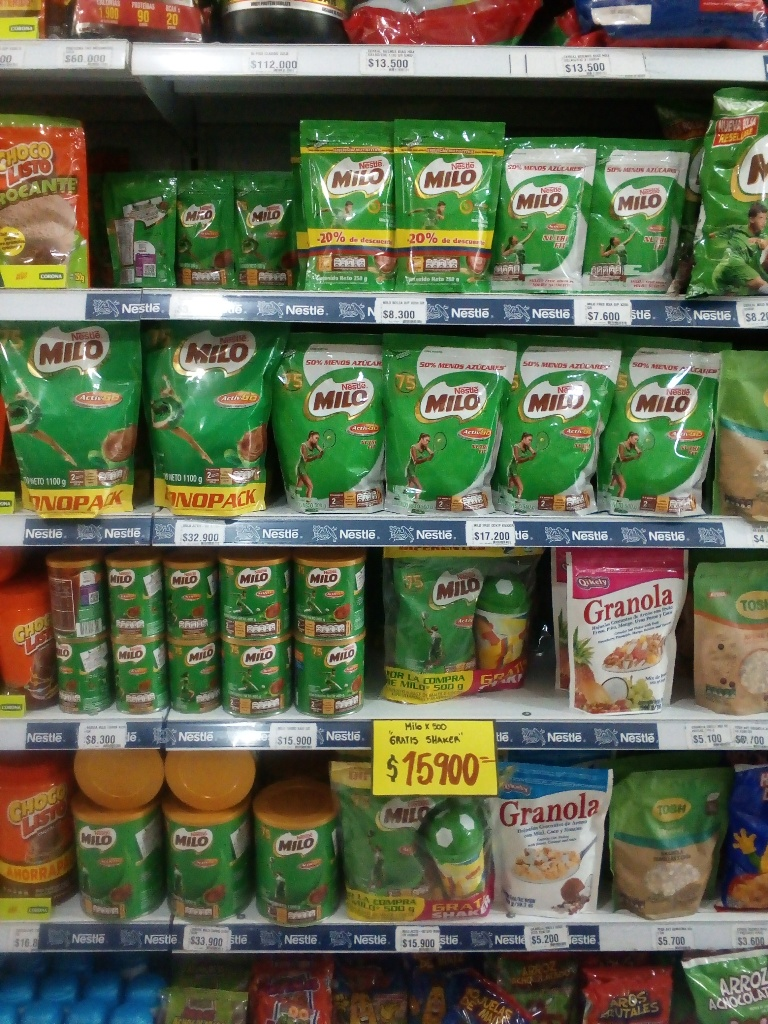COL0170102DYP25000: (3, 117, 97, 288)
COL0170103DYP1,500: (3, 758, 83, 910)
COL0170103TRR30000: (1, 582, 55, 707)
COL0170203DYP10000: (103, 180, 182, 281)
COL0170203DYP25000: (302, 116, 393, 284)
COL0170203DYP50000: (323, 766, 433, 918)
COL0170203LAT20000: (109, 639, 168, 714)
COL0170203LAT40000: (223, 638, 295, 718)
COL0170205DYP20000: (599, 140, 689, 292)
COL0170205DYP50000: (383, 328, 507, 518)
